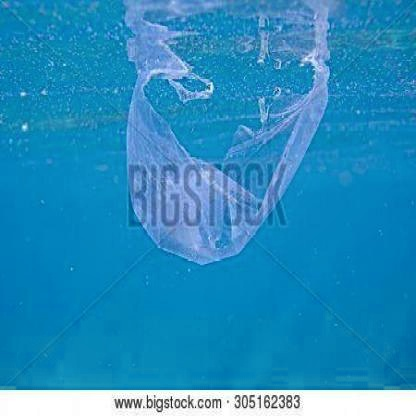pbag: (125, 62, 333, 266)
